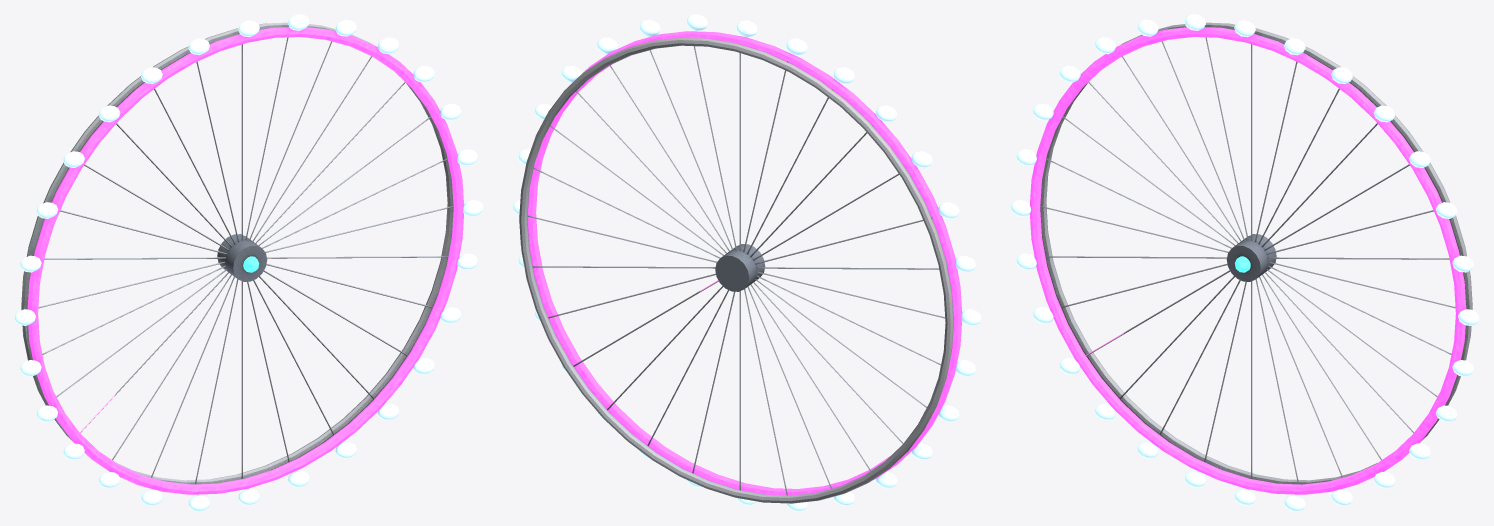
Rendered from noria_rueda.glb.
The picture shows the model from 3 angles, left to right: view 1: azimuth 30°, elevation 25°; view 2: azimuth 150°, elevation 25°; view 3: azimuth 330°, elevation 25°; orthographic projection.
Parts seen in each view (by area): view 1: noria_rueda; view 2: noria_rueda; view 3: noria_rueda.
Boxes of the visible parts, left/top/right/bottom form: noria_rueda: left=14, top=14, right=483, bottom=511; noria_rueda: left=512, top=14, right=981, bottom=511; noria_rueda: left=1010, top=14, right=1479, bottom=511.
Size of the model in its own units: 43.78 by 43.35 by 3.4.
1 material, 1 textured.
